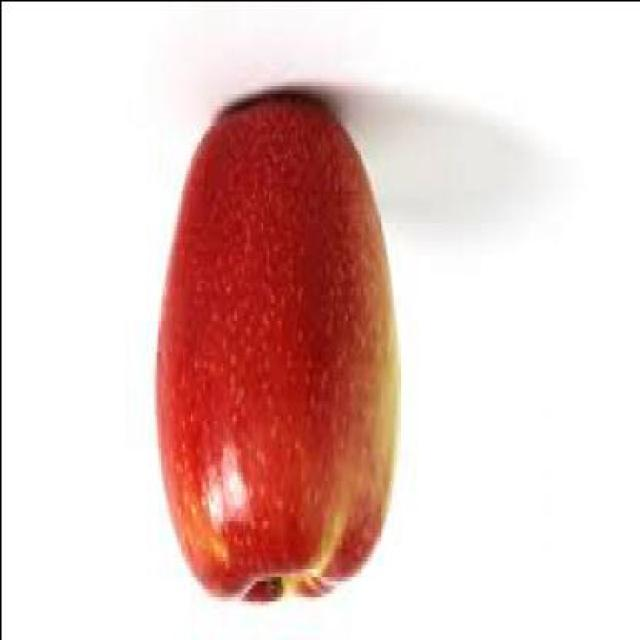BIODEGRADABLE: (155, 93, 402, 604)
